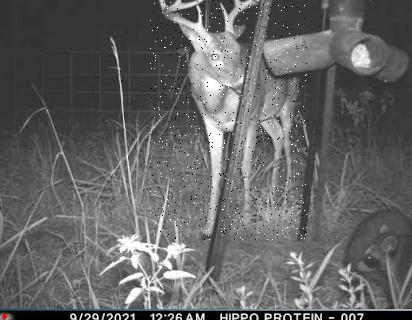Deer: (150, 0, 307, 240)
